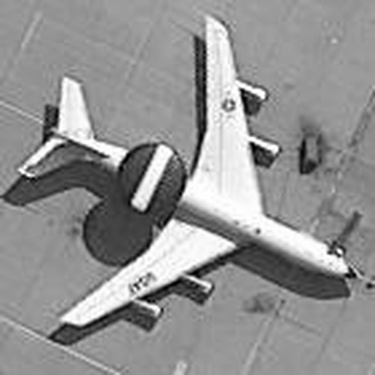airplane: (3, 6, 363, 348)
